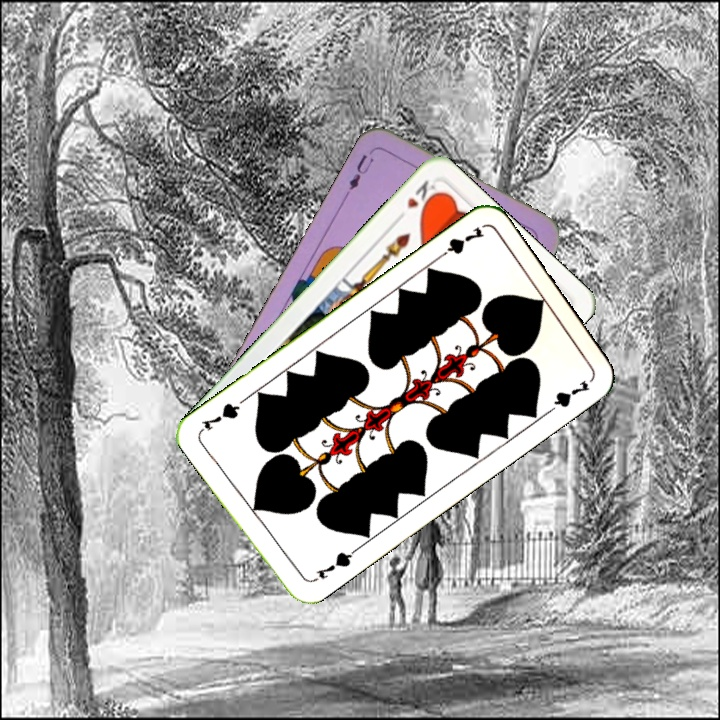EU: (345, 145, 377, 193)
G7: (307, 545, 359, 585), (433, 223, 486, 262)
HK: (391, 176, 441, 225)
